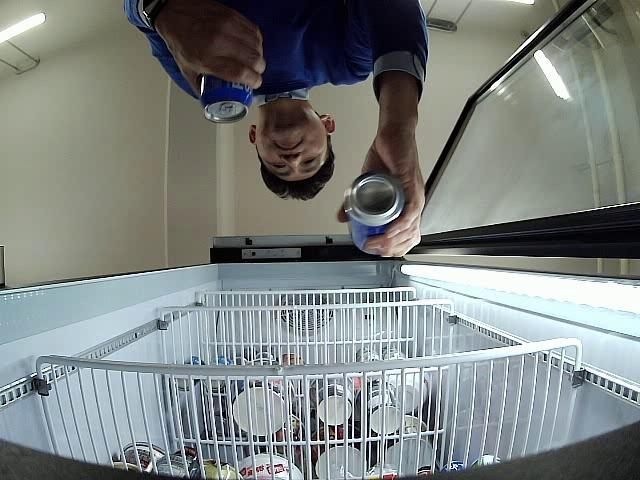13_pocariSweat: (348, 173, 408, 254), (201, 75, 252, 125)
